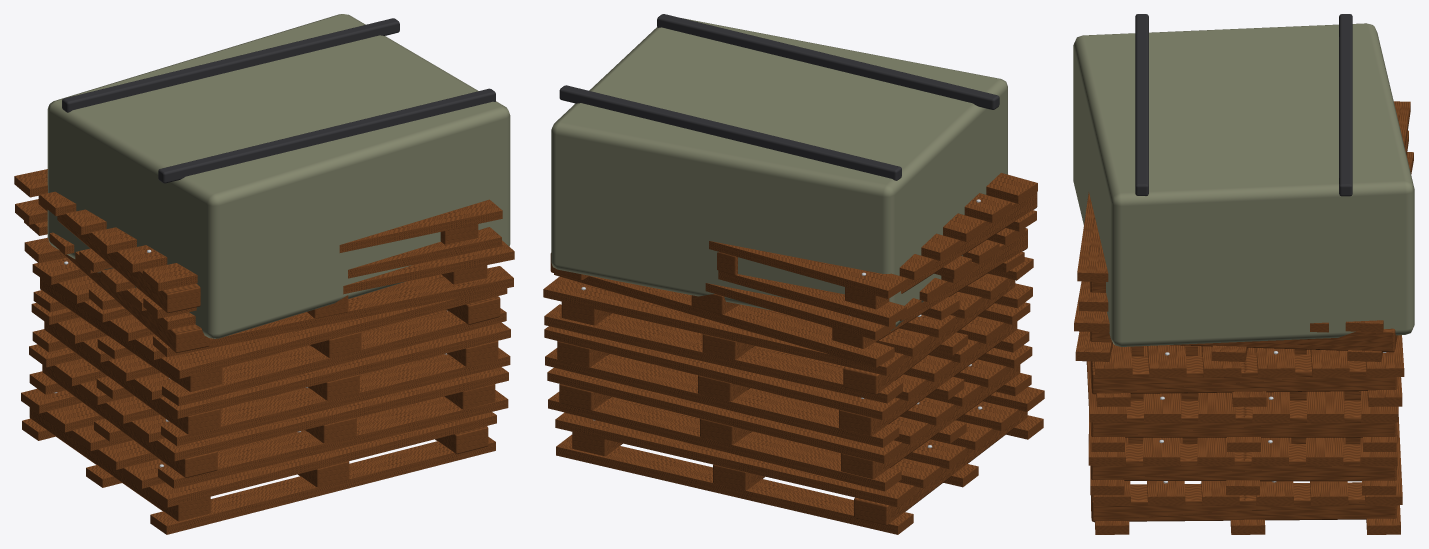
Rendered from pallet-stack.glb.
3 renders of one model, left to right at view 1: azimuth 30°, elevation 25°; view 2: azimuth 150°, elevation 25°; view 3: azimuth 270°, elevation 25°, orthographic. The views are drawn at different scales.
Parts seen in each view (by area): view 1: pallet-stack; view 2: pallet-stack; view 3: pallet-stack.
Part boxes in pixels (bbox=[...]): pallet-stack: bbox=[14, 14, 514, 534]; pallet-stack: bbox=[543, 14, 1044, 534]; pallet-stack: bbox=[1073, 14, 1414, 534].
Size of the model in its own units: 1.3 by 1.17 by 1.01.
Materials: 4 (1 with a texture image).
